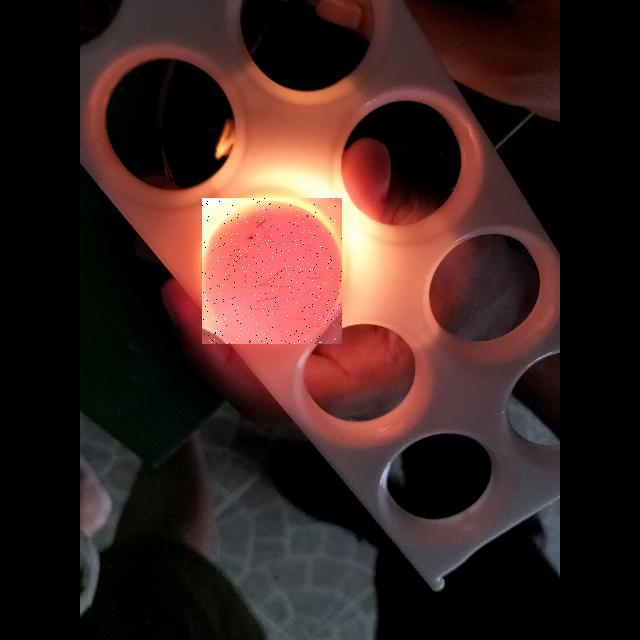Infertile: (202, 198, 342, 344)
